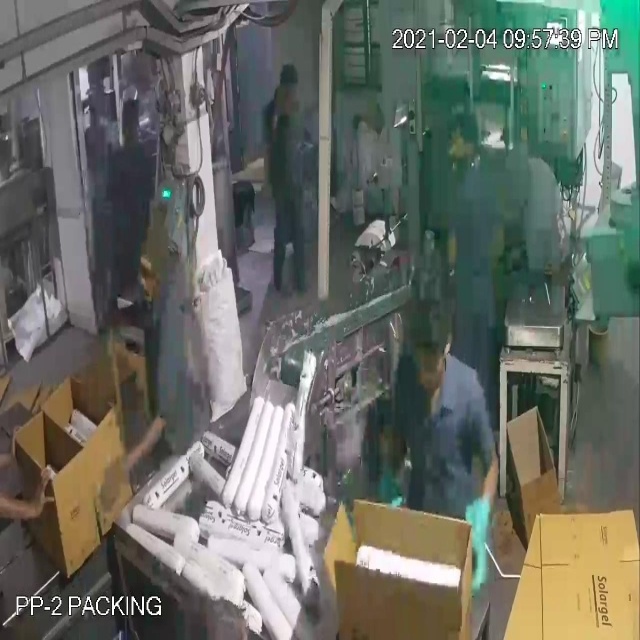Guantes: (455, 458, 500, 605)
Sin_guantes: (109, 404, 177, 487), (0, 462, 66, 541), (1, 421, 37, 492)
